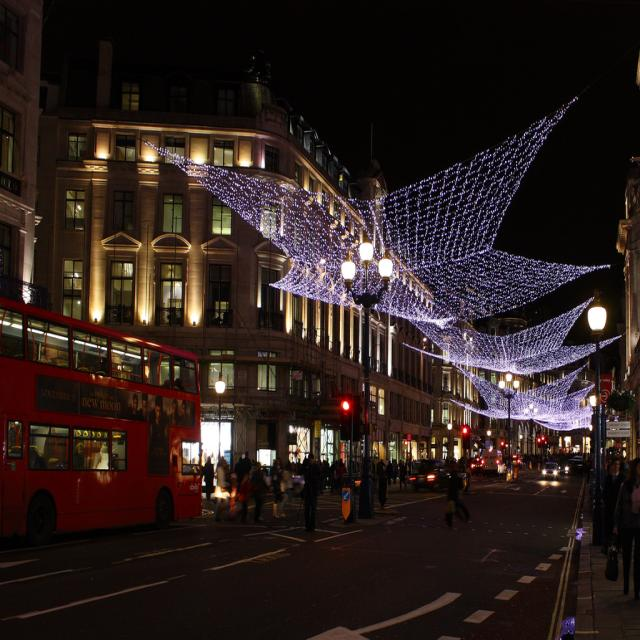Bus: (0, 310, 217, 598)
People: (607, 440, 640, 596), (429, 436, 467, 536), (357, 442, 397, 516), (296, 447, 323, 545), (191, 446, 219, 516), (251, 436, 272, 525), (229, 449, 248, 522)
car: (471, 429, 513, 488), (398, 450, 446, 500), (536, 454, 582, 505)
